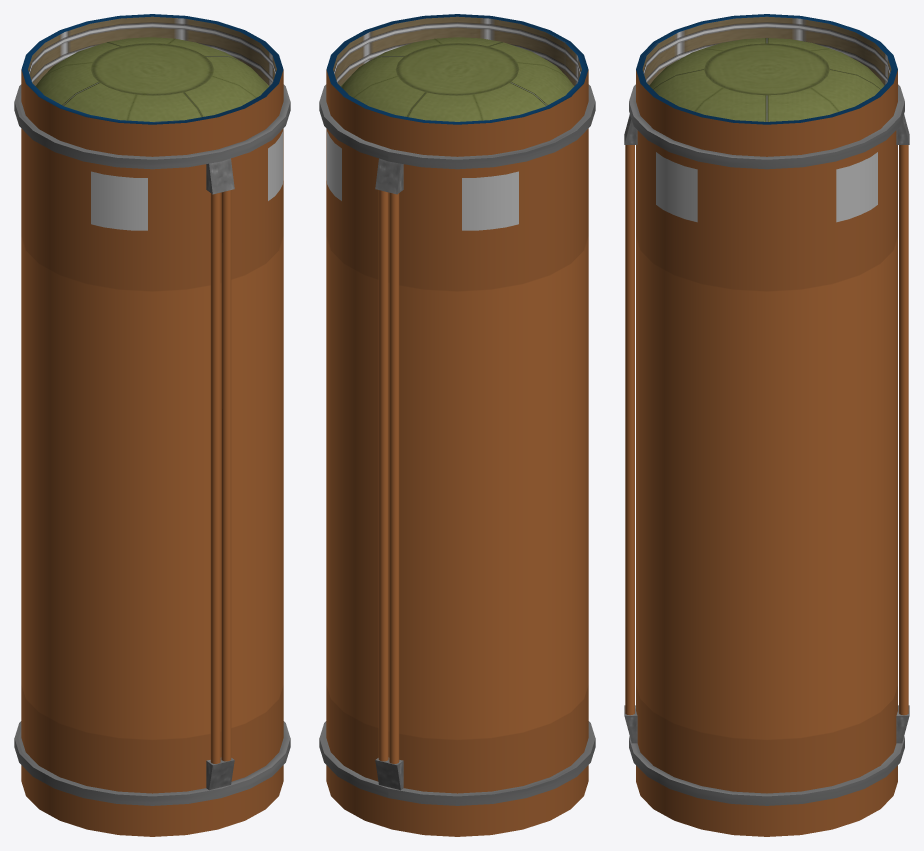
The model's file is FLM-14400M.FBX.
3 renders of one model, left to right at view 1: azimuth 30°, elevation 25°; view 2: azimuth 150°, elevation 25°; view 3: azimuth 270°, elevation 25°, orthographic.
Visible parts, largest first — view 1: TankBody, TankSleeve001, EndCap001, TankSleeve002, FuelPipe001, FuelPipe002, BarrelBand003, BarrelBand002, decalPanel002, decalPanel001, FuelPlug001, FuelPlug002; view 2: TankBody, TankSleeve001, EndCap001, TankSleeve002, FuelPipe003, FuelPipe004, BarrelBand003, BarrelBand002, decalPanel003, decalPanel004, FuelPlug004, FuelPlug003; view 3: TankBody, TankSleeve001, EndCap001, TankSleeve002, FuelPipe004, FuelPipe002, BarrelBand003, BarrelBand002, decalPanel001, decalPanel004.
Part boxes in pixels (bbox=[...]): TankBody: bbox=[21, 128, 283, 793]; TankSleeve001: bbox=[21, 14, 283, 156]; EndCap001: bbox=[35, 37, 269, 121]; TankSleeve002: bbox=[21, 765, 283, 836]; FuelPipe001: bbox=[210, 192, 220, 763]; FuelPipe002: bbox=[221, 190, 231, 761]; BarrelBand003: bbox=[14, 84, 290, 169]; BarrelBand002: bbox=[14, 721, 290, 805]; decalPanel002: bbox=[91, 171, 147, 230]; decalPanel001: bbox=[268, 129, 283, 200]; FuelPlug001: bbox=[206, 158, 234, 194]; FuelPlug002: bbox=[206, 757, 234, 790]; TankBody: bbox=[326, 128, 588, 793]; TankSleeve001: bbox=[326, 14, 588, 156]; EndCap001: bbox=[340, 37, 574, 121]; TankSleeve002: bbox=[326, 765, 588, 836]; FuelPipe003: bbox=[389, 192, 399, 763]; FuelPipe004: bbox=[378, 190, 388, 761]; BarrelBand003: bbox=[319, 84, 595, 169]; BarrelBand002: bbox=[319, 721, 595, 805]; decalPanel003: bbox=[462, 171, 518, 230]; decalPanel004: bbox=[326, 129, 341, 200]; FuelPlug004: bbox=[375, 158, 403, 194]; FuelPlug003: bbox=[375, 757, 403, 790]; TankBody: bbox=[636, 130, 897, 793]; TankSleeve001: bbox=[636, 14, 897, 156]; EndCap001: bbox=[649, 38, 884, 121]; TankSleeve002: bbox=[636, 765, 897, 836]; FuelPipe004: bbox=[899, 145, 908, 715]; FuelPipe002: bbox=[625, 145, 634, 715]; BarrelBand003: bbox=[629, 84, 904, 169]; BarrelBand002: bbox=[629, 736, 904, 805]; decalPanel001: bbox=[656, 152, 697, 222]; decalPanel004: bbox=[836, 152, 877, 222].
Size of what is drawn, in the model's own units: 2.63 by 7.49 by 2.72.
